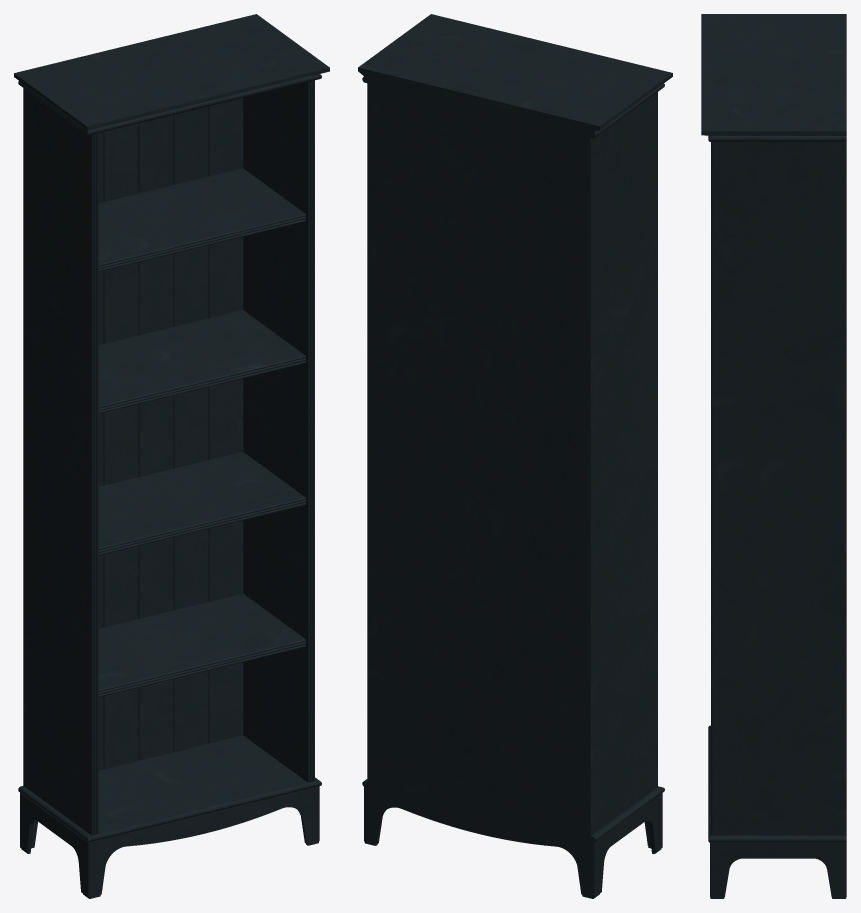
The model's file is ikea_bookcase.gltf.
3 renders of one model, left to right at view 1: azimuth 30°, elevation 25°; view 2: azimuth 150°, elevation 25°; view 3: azimuth 270°, elevation 25°, orthographic.
Parts seen in each view (by area): view 1: Group#2 [9607]; view 2: Group#2 [9607]; view 3: Group#2 [9607].
Part boxes in pixels (x1,y1,x2,y2): Group#2 [9607]: (14,14,329,898); Group#2 [9607]: (358,14,672,898); Group#2 [9607]: (701,14,846,898).
Bounding box in the file's own units: 0.65 × 1.99 × 0.34.
1 material, 1 textured.
